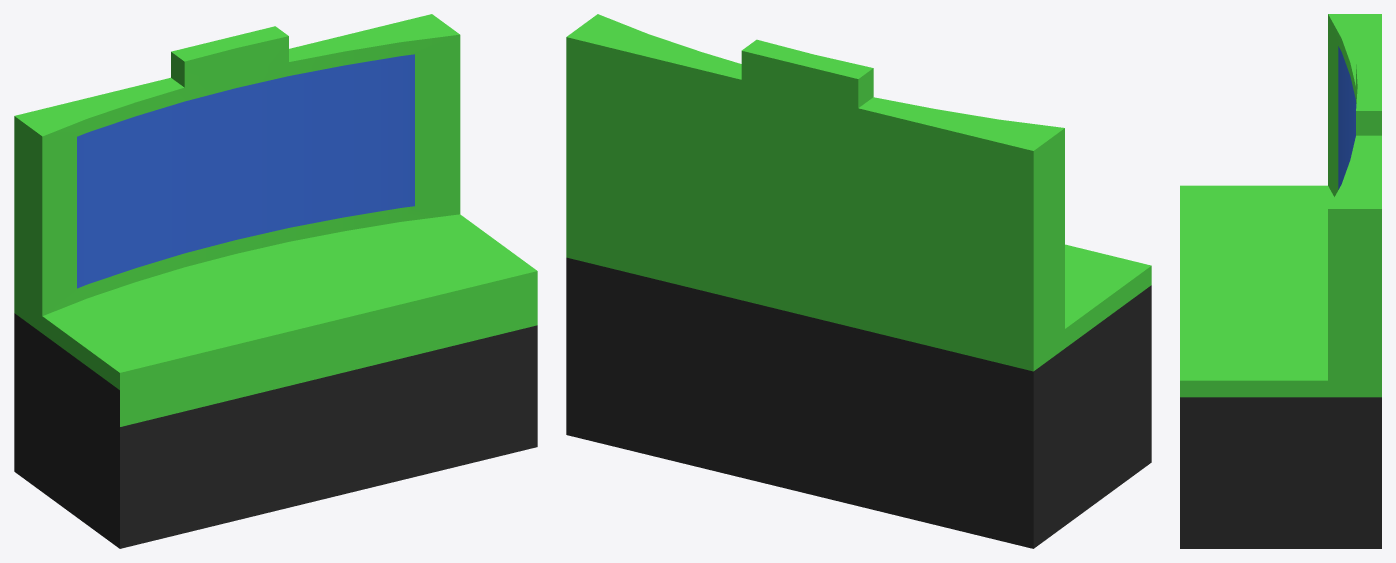
File: stand4.fbx
3 renders of one model, left to right at view 1: azimuth 30°, elevation 25°; view 2: azimuth 150°, elevation 25°; view 3: azimuth 270°, elevation 25°, orthographic. The views are drawn at different scales.
Parts seen in each view (by area): view 1: Cube.037; view 2: Cube.037; view 3: Cube.037.
Boxes of the visible parts, x1,y1,x2,y2 form: Cube.037: [14, 14, 537, 548]; Cube.037: [566, 14, 1151, 548]; Cube.037: [1180, 14, 1381, 548].
Size of the model in its own units: 5.54 by 4.84 by 2.43.
